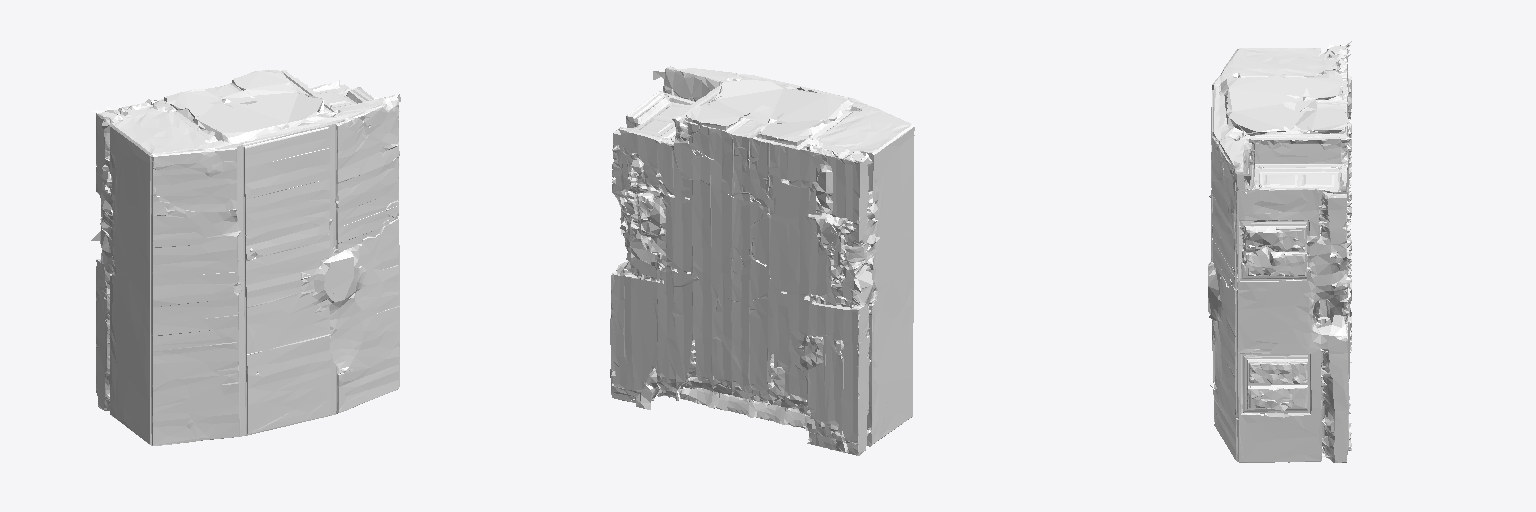
Rendered from herrstugan1.obj.
The picture shows the model from 3 angles: view 1: azimuth 30°, elevation 25°; view 2: azimuth 150°, elevation 25°; view 3: azimuth 270°, elevation 25°; orthographic projection.
Visible parts, largest first — view 1: default; view 2: default; view 3: default.
Part boxes in pixels (x1,y1,x2,y2): default: (91, 70, 400, 445); default: (610, 66, 914, 455); default: (1208, 41, 1351, 462).
Bounding box in the file's own units: 39.48 × 44.03 × 18.91.